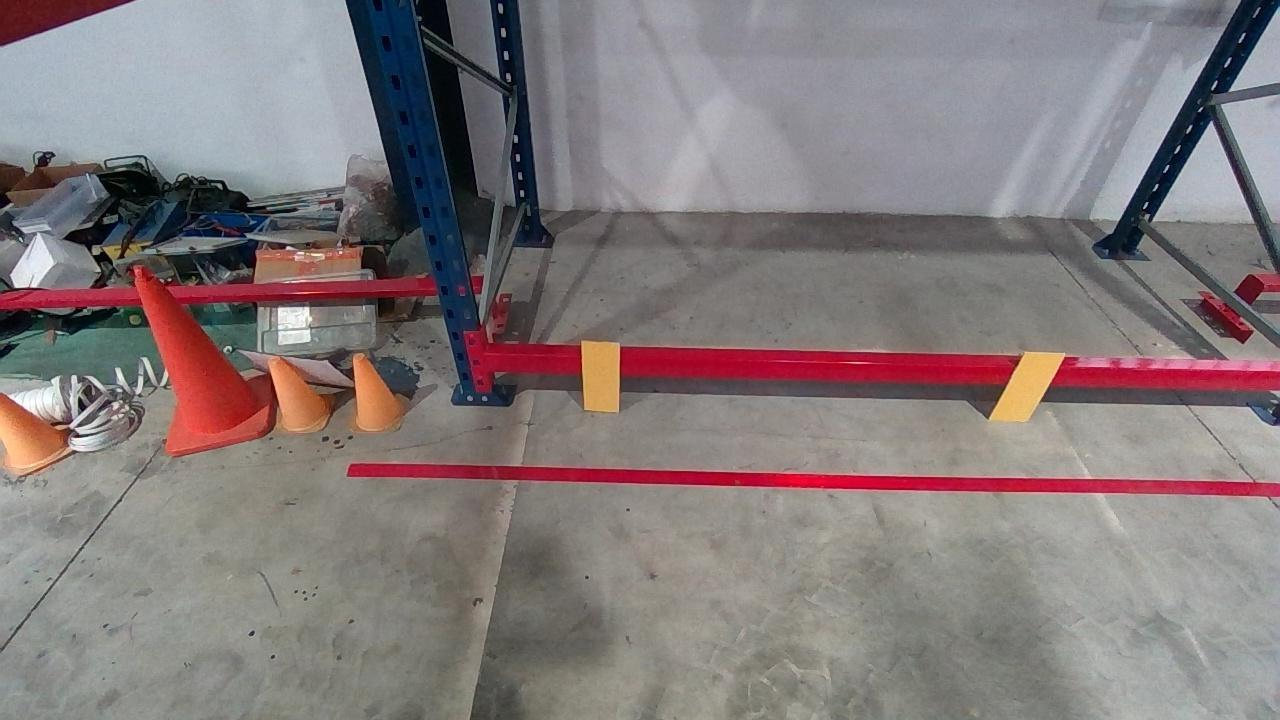h_rack: (489, 353, 1274, 389)
orange_strip: (990, 352, 1068, 421), (580, 340, 620, 410)
red_line: (347, 462, 1278, 495)
